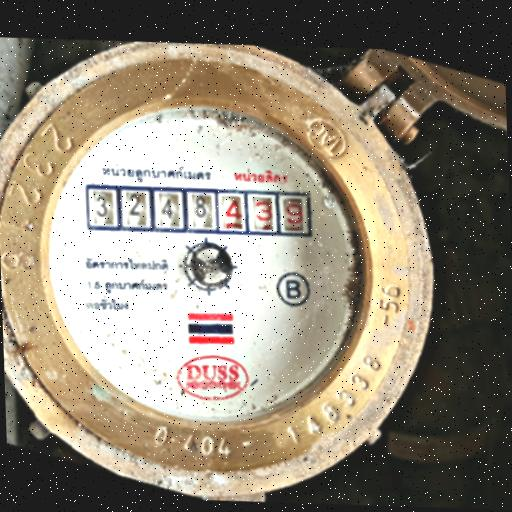2: (125, 192, 147, 226)
3: (252, 195, 272, 232), (93, 192, 113, 225)
4: (222, 195, 242, 232), (159, 193, 179, 227)
8: (193, 194, 212, 229)
9: (283, 198, 304, 230)
border_water_meter_number: (86, 176, 313, 245)
